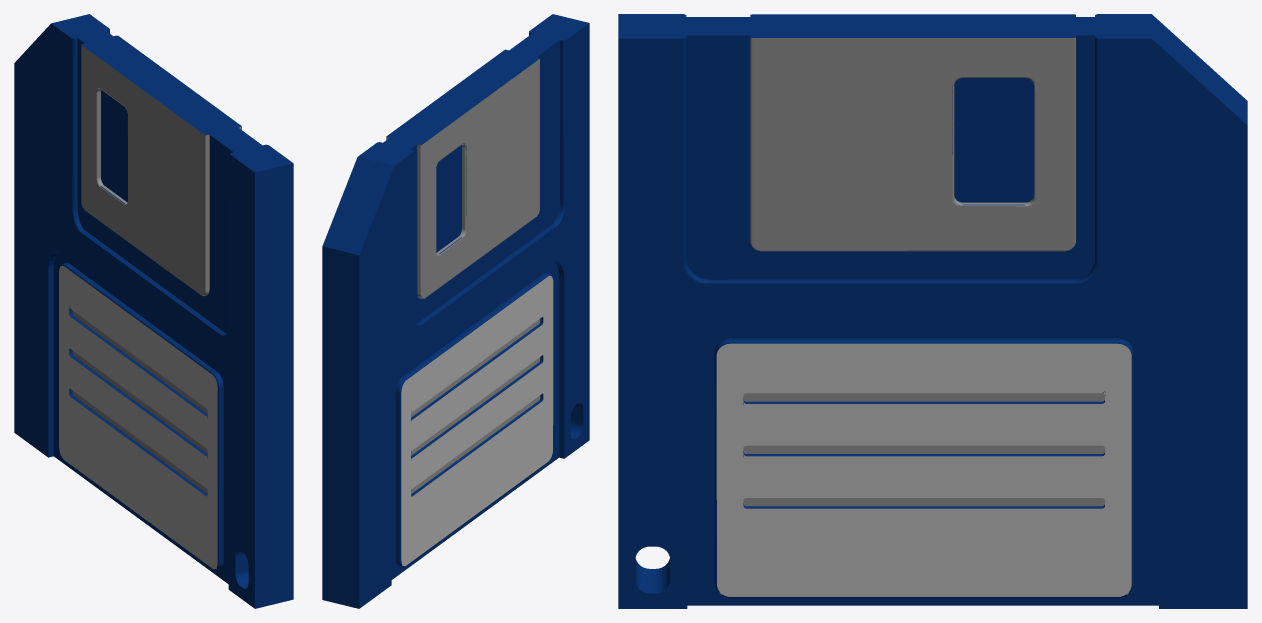
The model's file is Save_icon.fbx.
3 renders of one model, left to right at view 1: azimuth 30°, elevation 25°; view 2: azimuth 150°, elevation 25°; view 3: azimuth 270°, elevation 25°, orthographic. The views are drawn at different scales.
Parts seen in each view (by area): view 1: Cube; view 2: Cube; view 3: Cube.
Part boxes in pixels (x1,y1,x2,y2): Cube: [14, 14, 293, 608]; Cube: [322, 14, 589, 608]; Cube: [618, 14, 1247, 608].
Size of the model in its own units: 18.46 by 200 by 200.
